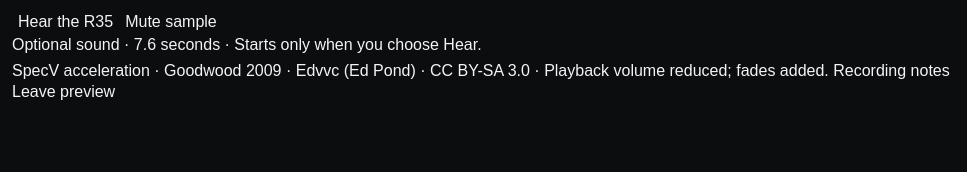
Test: R35 Hear control › shows loading and lets the visitor cancel before a late response
The image size is (967, 172).
What coordinates should you click on to do the following:
click the button "Hear the R35"
I would click on:
 (66, 22)
Its box is [12, 12, 119, 32].
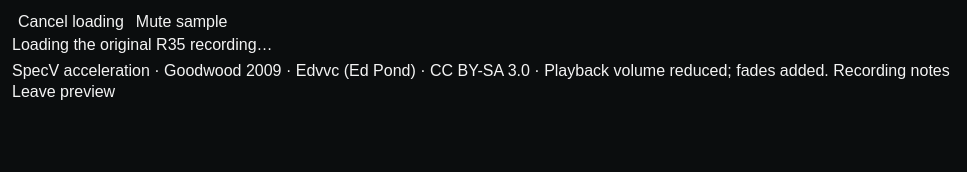
Expected: the message shows "Loading", [12, 36, 273, 53]
What coordinates should you click on to do the following:
click the button "Cancel loading"
I would click on:
 (71, 22)
Its box is [12, 12, 130, 32].
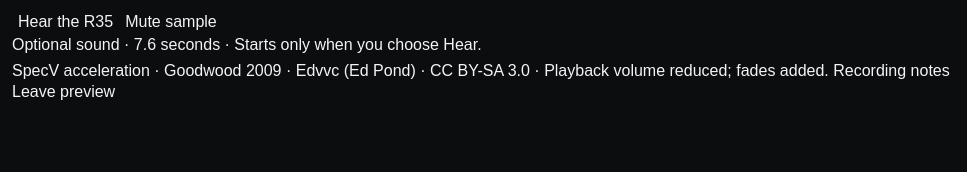
Expected: the button "Hear the R35" is shown, [12, 12, 119, 32]
